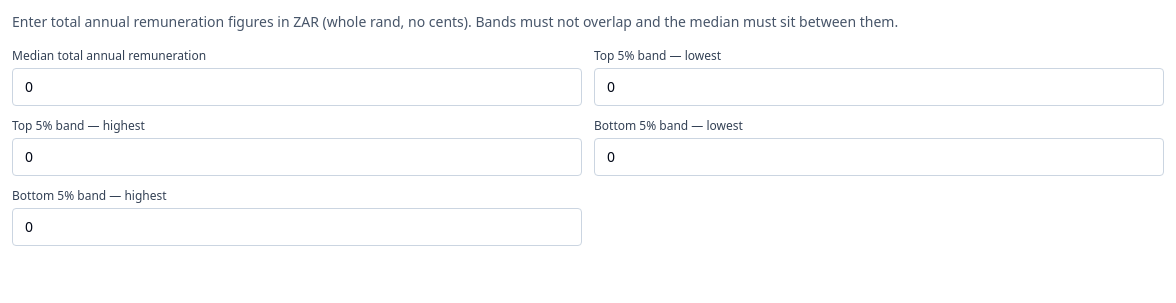
Test case: SectionEMedianGap › renders an inline error when the entered bands overlap
The width and height of the screenshot is (1176, 303).
Replace the text in the number field with test id "eea4-section-e-input-top5.lowest" with "300" at [879, 87], box x1=594 y1=68 x2=1164 y2=106
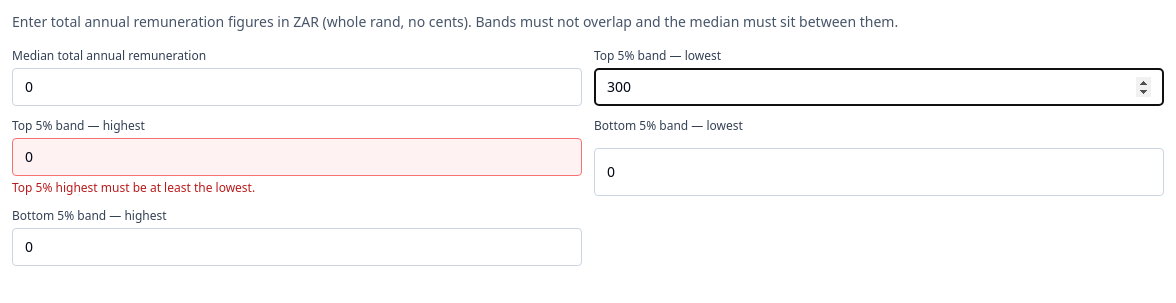
Replace the text in the number field with test id "eea4-section-e-input-bottom5.highest" with "500" at [297, 247], box x1=12 y1=228 x2=582 y2=266
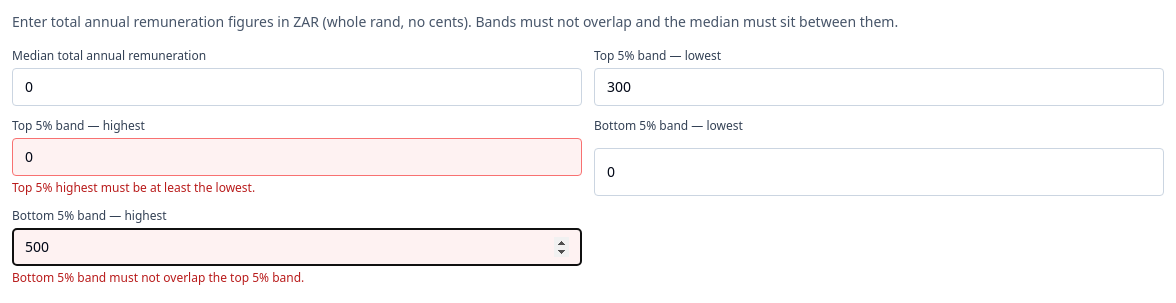
Now the text "Bottom 5% band must not overlap the top 5% band." is shown, box x1=12 y1=269 x2=304 y2=286
